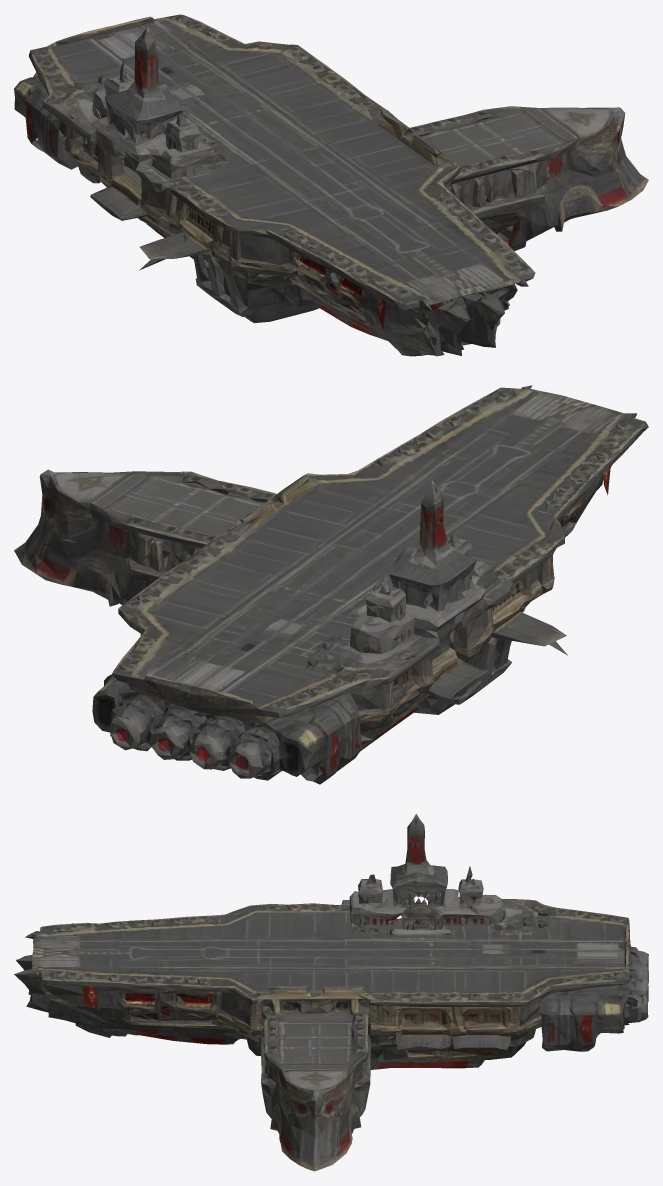
The model's file is 01_航空母艦.glb.
3 views of the same model, one above another, from view 1: azimuth 30°, elevation 25°; view 2: azimuth 150°, elevation 25°; view 3: azimuth 270°, elevation 25° (orthographic). The views are drawn at different scales.
Parts seen in each view (by area): view 1: part_1; view 2: part_1; view 3: part_1.
Part boxes in pixels (bbox=[...]): part_1: bbox=[14, 14, 648, 356]; part_1: bbox=[14, 385, 648, 784]; part_1: bbox=[14, 814, 648, 1171].
Size of the model in its own units: 0.7619 by 0.3559 by 0.996.
Materials: 1 (1 with a texture image).
